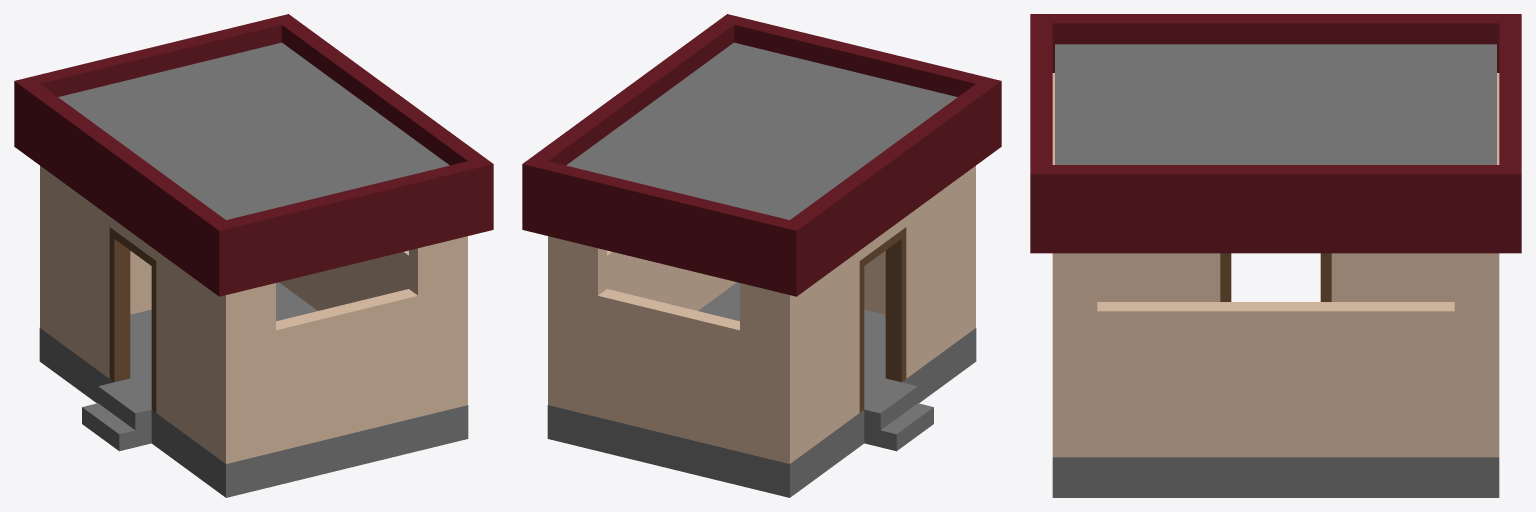
Rendered from microhouse_build_breakable.fbx.
The picture shows the model from 3 angles, left to right: view 1: azimuth 30°, elevation 25°; view 2: azimuth 150°, elevation 25°; view 3: azimuth 270°, elevation 25°; orthographic projection. The views are drawn at different scales.
Parts seen in each view (by area): view 1: floors, Wall_window2, Floor, border1, Wall_Door_cell.002, border_cell.003, Wall_window_cell.004, Wall, border1_cell, Wall_window_cell.003, Wall_window_cell.001_cell.003, Wall_Door_cell (+28 smaller); view 2: floors, Wall_window, Floor, border3, Wall_Door_cell.002, border_cell.003, Wall_window_cell.002, Wall, border2, Wall_Door, Wall_Door_cell, border1 (+21 smaller); view 3: Wall, floors, border, Wall_cell, Floor, Wall_cell.002, border2, Wall_Door, Wall_cell.001_cell, Wall_cell.001_cell.001, border_cell.003, border1_cell.001 (+4 smaller).
Boxes of the visible parts, x1,y1,x2,y2 form: floors: [58, 42, 449, 219]; Wall_window2: [242, 240, 451, 459]; Floor: [39, 282, 468, 497]; border1: [230, 168, 477, 292]; Wall_Door_cell.002: [57, 188, 191, 438]; border_cell.003: [14, 77, 129, 221]; Wall_window_cell.004: [242, 283, 371, 459]; Wall: [279, 236, 467, 408]; border1_cell: [226, 193, 356, 292]; Wall_window_cell.003: [347, 240, 451, 354]; Wall_window_cell.001_cell.003: [350, 322, 451, 420]; Wall_Door_cell: [40, 227, 109, 378]; floors: [566, 42, 957, 219]; Wall_window: [564, 240, 773, 459]; Floor: [547, 282, 976, 497]; border3: [538, 168, 783, 292]; Wall_Door_cell.002: [807, 206, 941, 390]; border_cell.003: [781, 154, 898, 296]; Wall_window_cell.002: [644, 311, 772, 458]; Wall: [548, 236, 736, 408]; border2: [780, 77, 1000, 295]; Wall_Door: [773, 189, 975, 463]; Wall_Door_cell: [773, 350, 859, 463]; border1: [734, 25, 975, 96]; Wall: [1052, 253, 1499, 457]; floors: [1055, 44, 1496, 164]; border: [1030, 165, 1521, 253]; Wall_cell: [1275, 253, 1499, 457]; Floor: [1052, 457, 1499, 497]; Wall_cell.002: [1052, 253, 1324, 387]; border2: [1030, 14, 1518, 72]; Wall_Door: [1052, 73, 1499, 301]; Wall_cell.001_cell: [1066, 354, 1274, 456]; Wall_cell.001_cell.001: [1052, 405, 1260, 457]; border_cell.003: [1283, 14, 1521, 23]; border1_cell.001: [1030, 89, 1052, 164].
Bounding box in the file's own units: 360 × 329 × 440.
